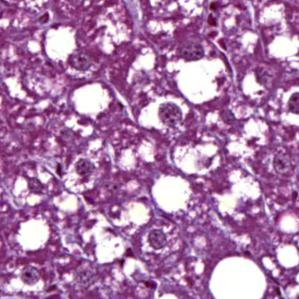steatosis: (205, 253, 267, 292), (151, 175, 196, 213), (65, 82, 112, 115), (40, 27, 79, 61), (18, 218, 52, 246)
